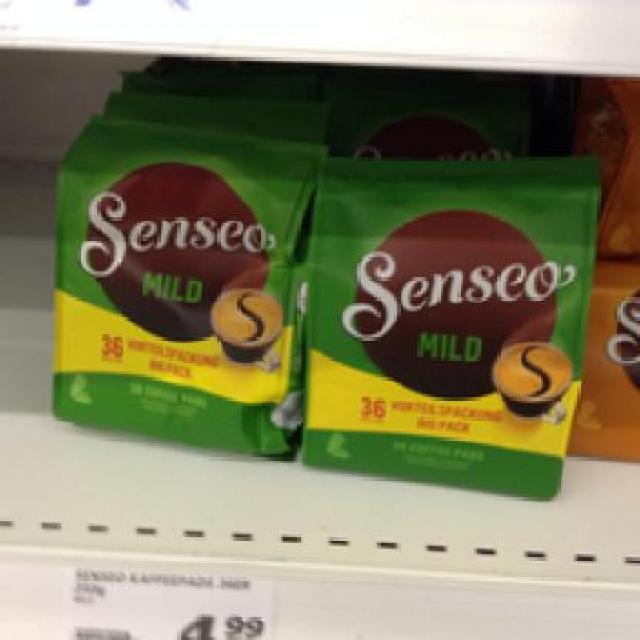Coffee: (300, 152, 597, 498), (48, 109, 306, 458)
